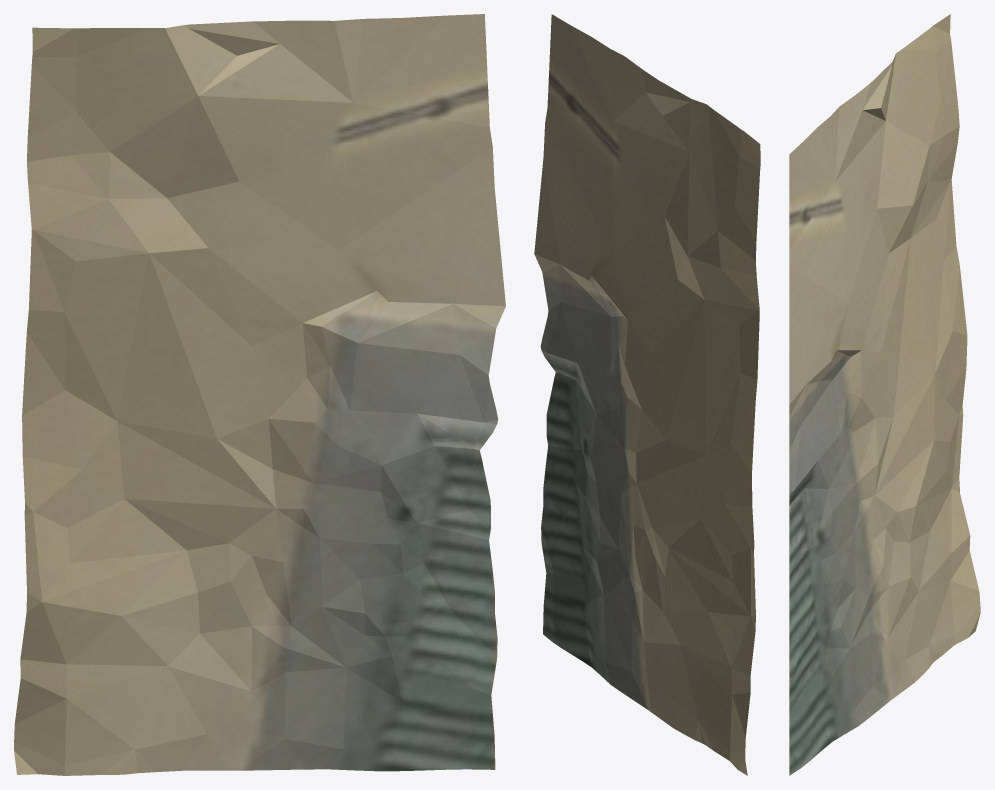
3 renders of one model, left to right at view 1: azimuth 30°, elevation 25°; view 2: azimuth 150°, elevation 25°; view 3: azimuth 270°, elevation 25°, orthographic. The views are drawn at different scales.
Size of the model in its own units: 0.8654 by 1.67 by 0.4701.
Materials: 2 (2 with a texture image).
